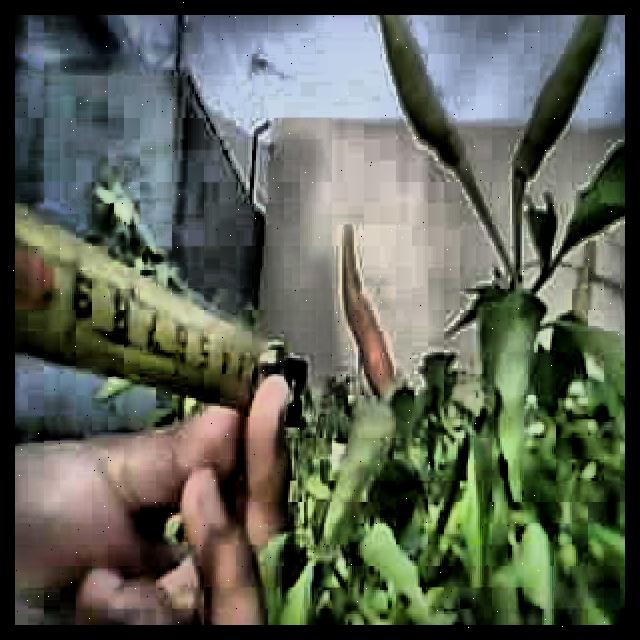Cabai: (331, 215, 424, 395)
